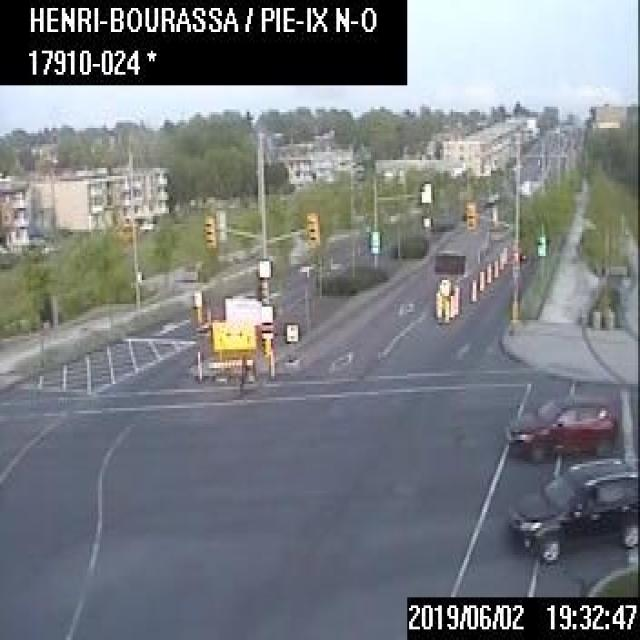construction: (195, 296, 272, 384), (432, 252, 464, 307), (469, 277, 476, 301), (448, 293, 454, 316), (435, 296, 440, 323), (443, 299, 448, 322), (453, 291, 458, 313), (485, 261, 490, 281), (478, 269, 483, 288), (493, 259, 497, 276), (502, 246, 506, 262), (498, 252, 502, 268)
vehicle: (506, 456, 638, 563), (506, 395, 617, 454)
